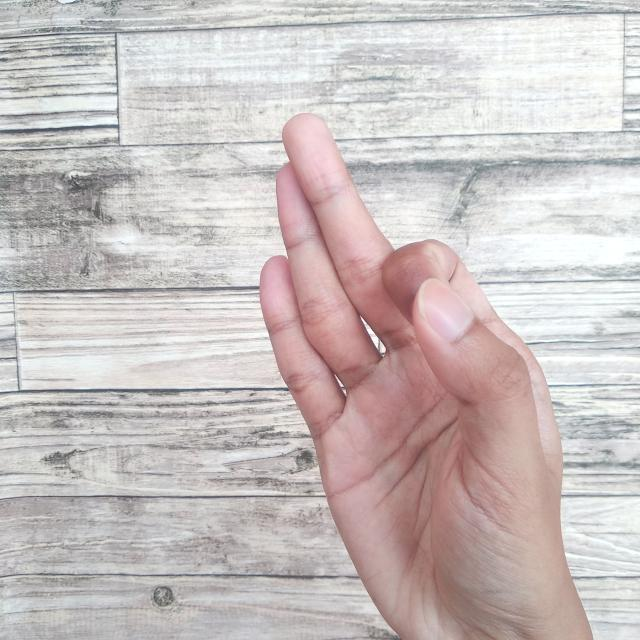F: (257, 110, 593, 640)
